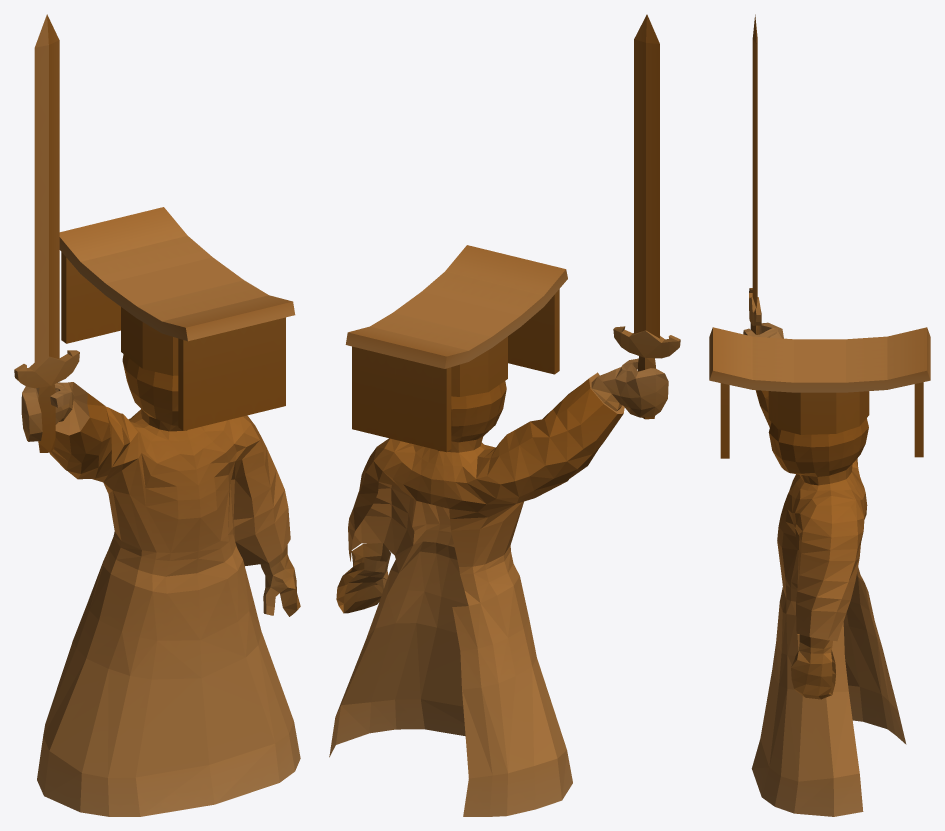
Rendered from statue_bronze.fbx.
The picture shows the model from 3 angles, left to right: view 1: azimuth 30°, elevation 25°; view 2: azimuth 150°, elevation 25°; view 3: azimuth 270°, elevation 25°; orthographic projection. The views are drawn at different scales.
Parts seen in each view (by area): view 1: statue_bronze; view 2: statue_bronze; view 3: statue_bronze.
Part boxes in pixels (x1,y1,x2,y2): statue_bronze: (14, 14, 300, 816); statue_bronze: (329, 14, 680, 816); statue_bronze: (709, 14, 930, 816).
Bounding box in the file's own units: 1.72 × 4.22 × 1.23.
Materials: 1 (1 with a texture image).
